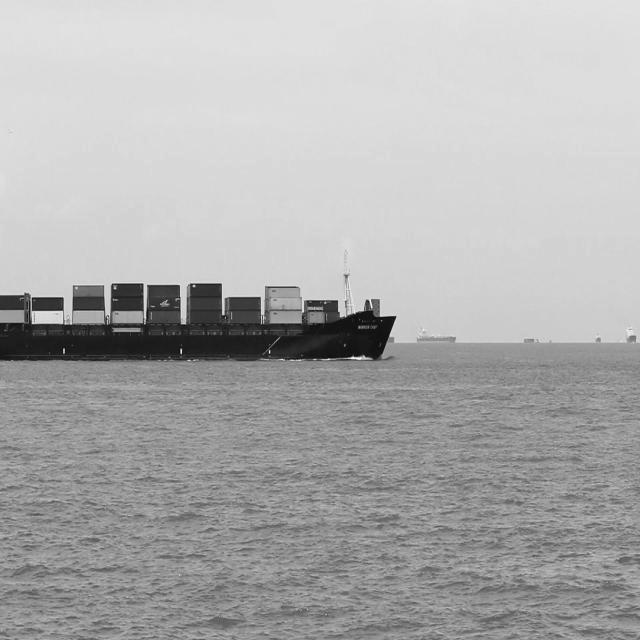ship: (0, 243, 399, 361), (356, 316, 398, 344), (415, 322, 462, 344), (622, 319, 640, 347), (522, 328, 542, 351), (593, 324, 607, 346)
